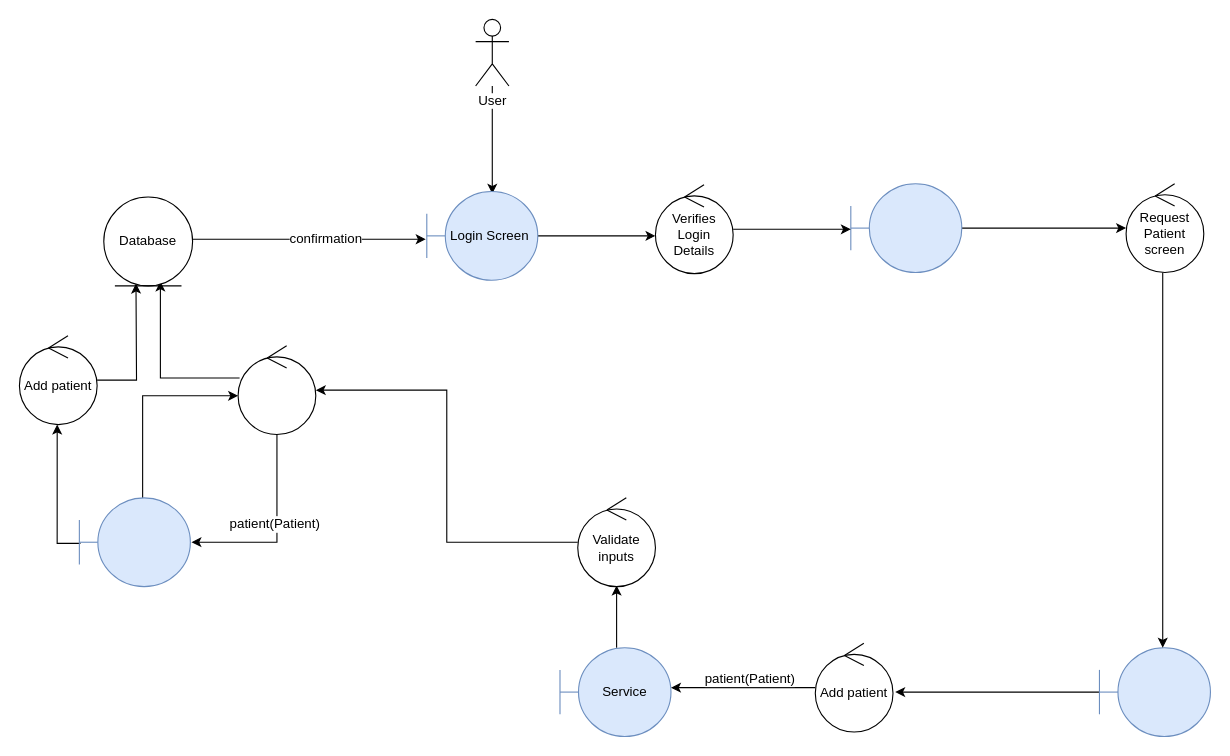
Some shapes in this 1230 by 756 pixel diagram are drawn without their labels. The shapes that lost their labels are listed below. From the top down, each one's box as (x1, y1, x2, y2) in pixels, then its label:
(850, 183, 962, 273): Home Screen
(237, 345, 316, 435): Check Patient does not exist
(78, 497, 190, 587): PersonDAO
(1098, 647, 1210, 736): Patient Screen
